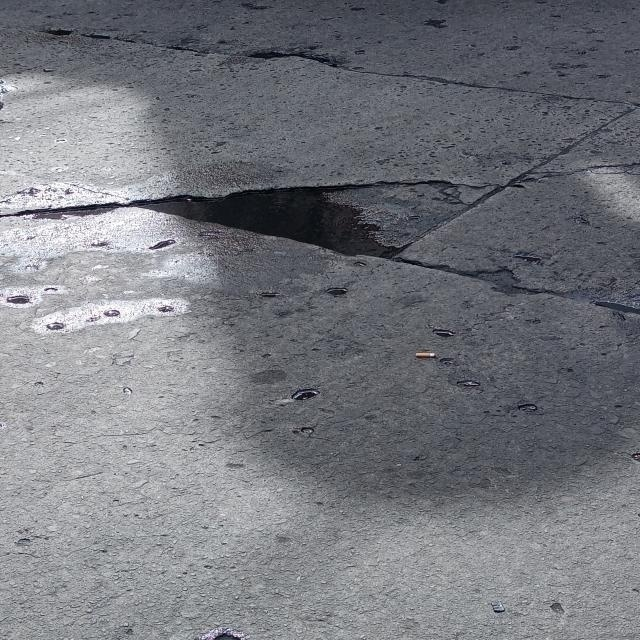pothole: (102, 151, 490, 306)
